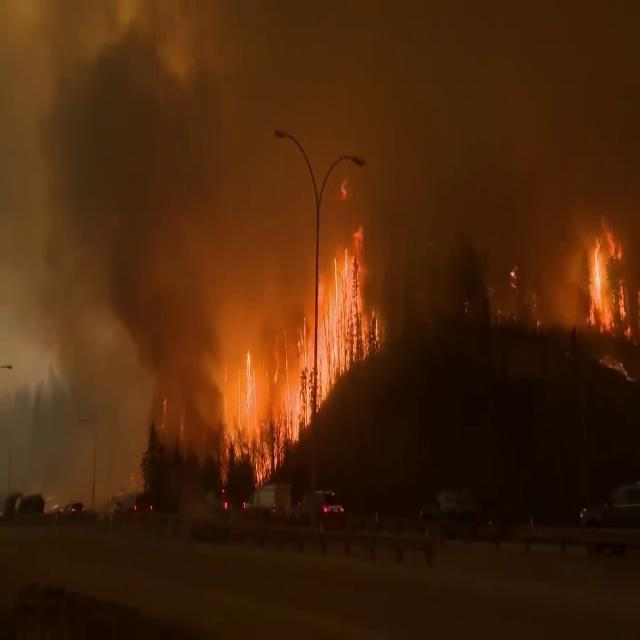Fire: (218, 216, 378, 484), (580, 218, 628, 336)
Smoke: (2, 1, 640, 324)
